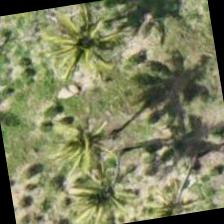Kelapa_Sawit: (30, 90, 133, 194), (38, 0, 141, 95), (47, 141, 150, 223), (121, 154, 219, 222)
